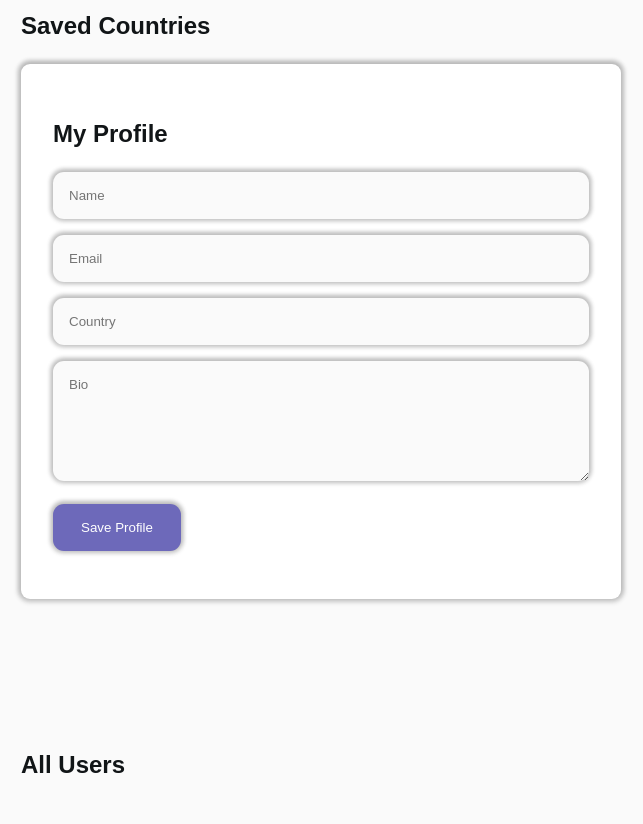
it: SavedCountries › submits the profile form to the backend and shows a welcome message
Type "Ada Lovelace" into the field with placeholder "Name". click: (321, 195)
box: [53,172,589,219]
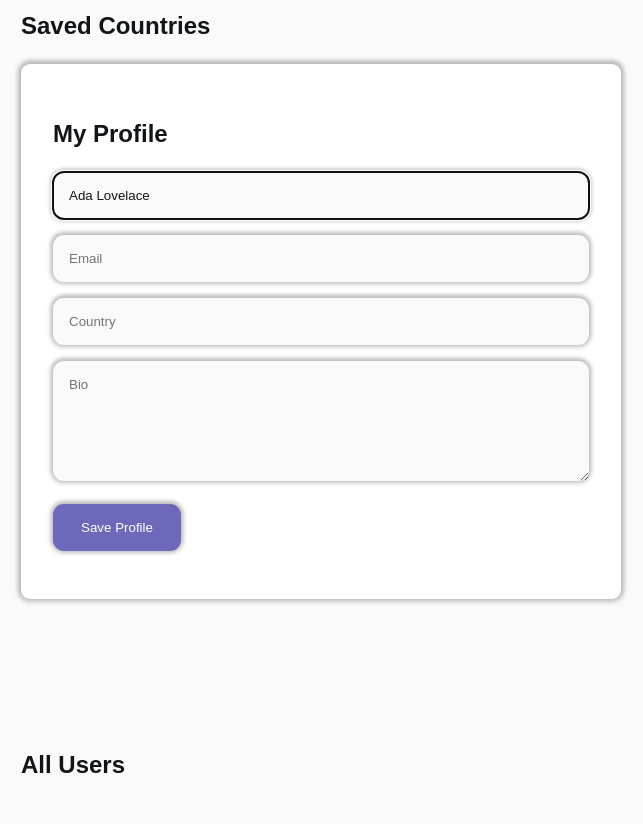
Type "ada@example.com" into the field with placeholder "Email". click: (321, 258)
box: [53,235,589,282]
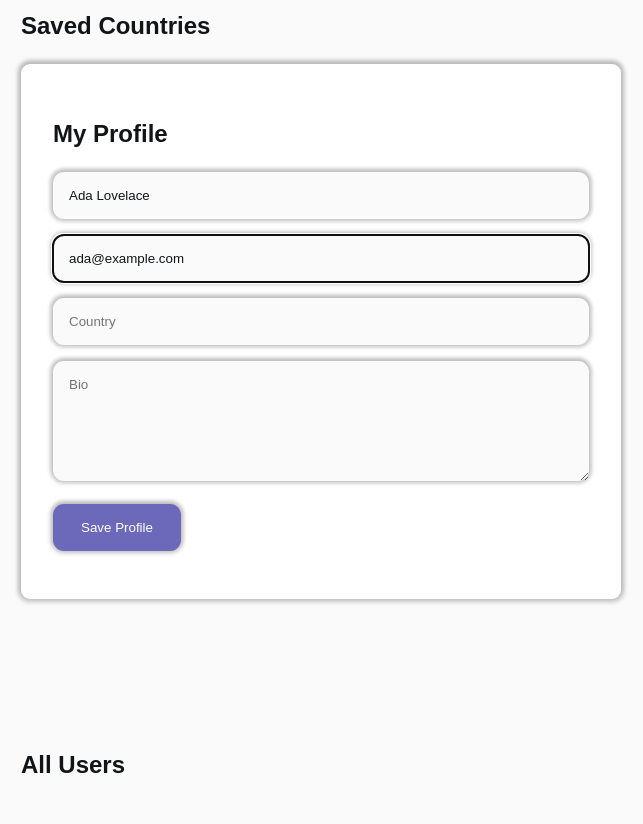
Type "Canada" into the field with placeholder "Country". click: (321, 321)
box: [53,298,589,345]
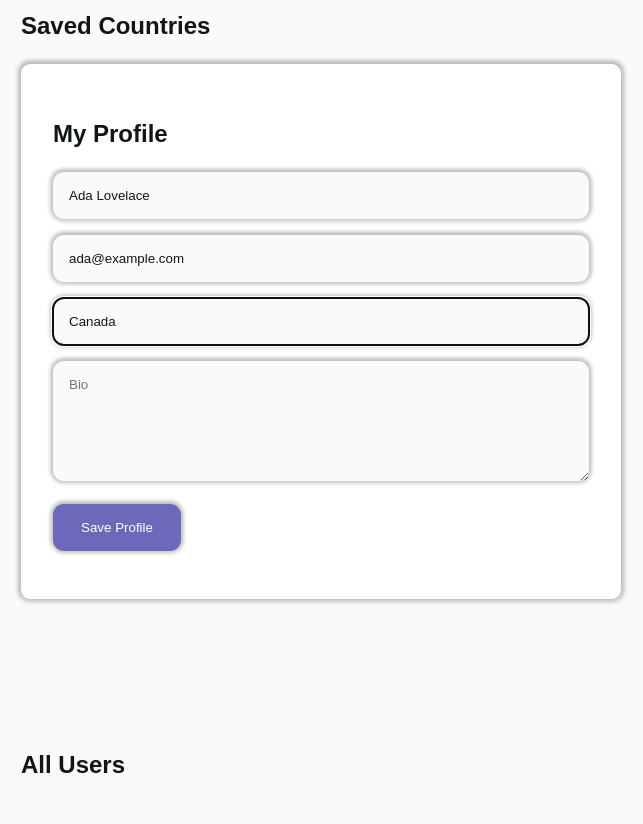
Type "First programmer." into the text box with placeholder "Bio". click: (321, 421)
box: [53,361,589,481]
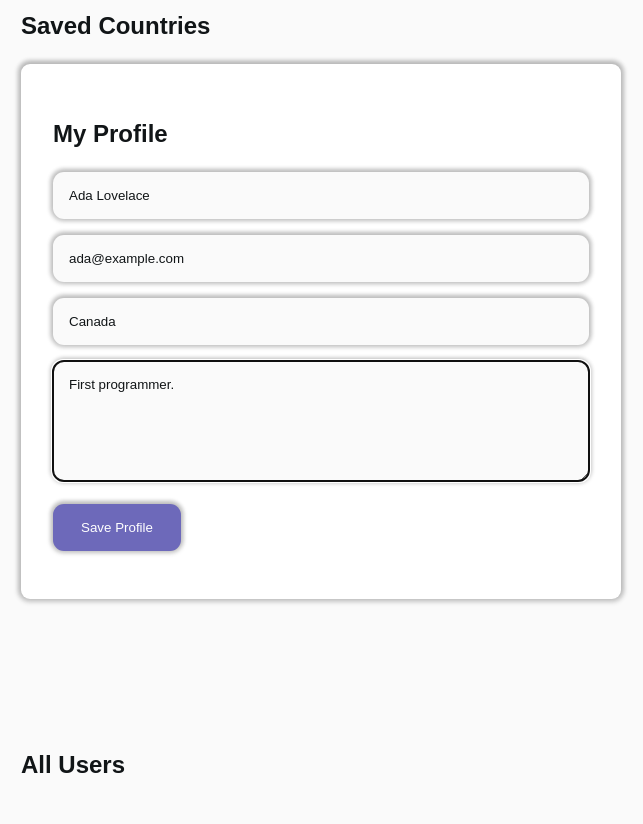
Click the button "Save Profile". click: (117, 527)
box: [53,504,181,551]
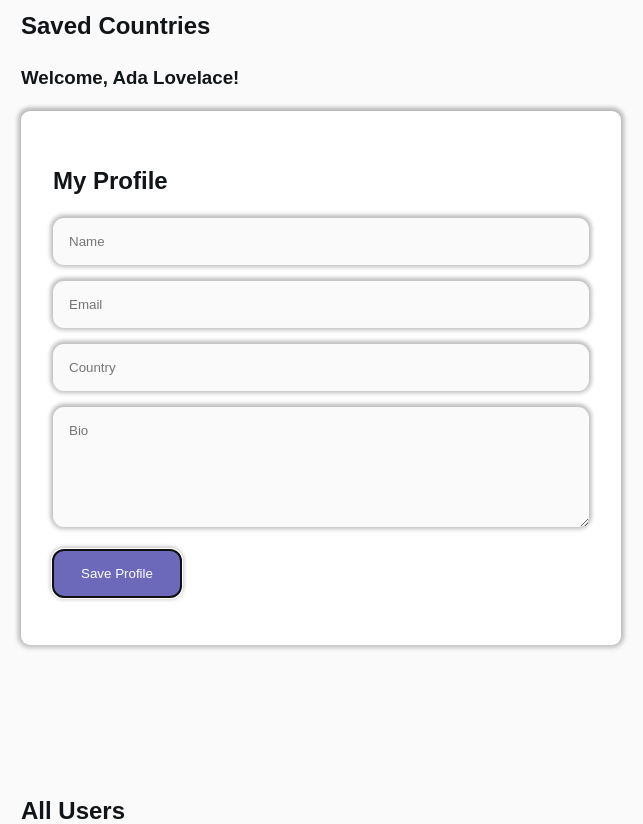
Result: the heading "Welcome, Ada Lovelace!" is shown at [21,67,239,88]
